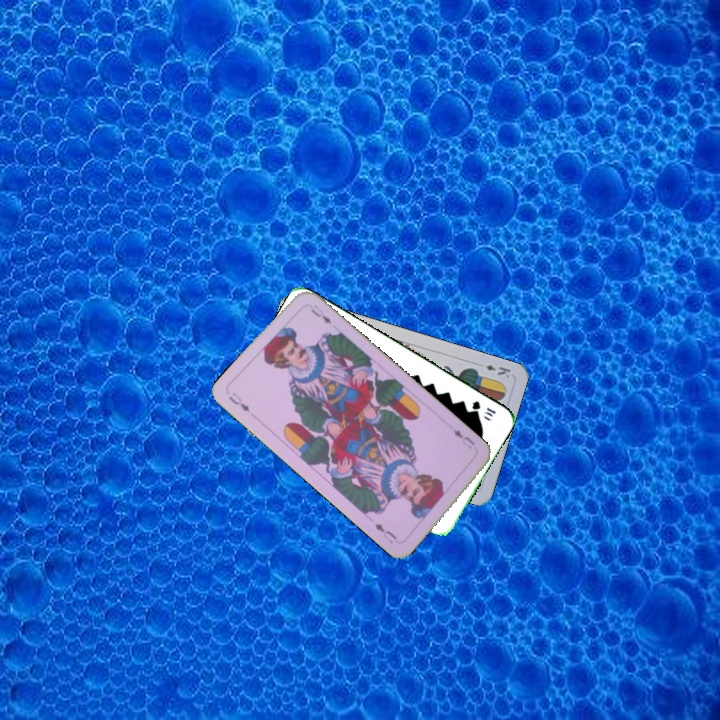EK: (481, 360, 513, 380)
EU: (449, 425, 477, 452), (224, 388, 252, 415)
G10: (468, 397, 498, 419)
